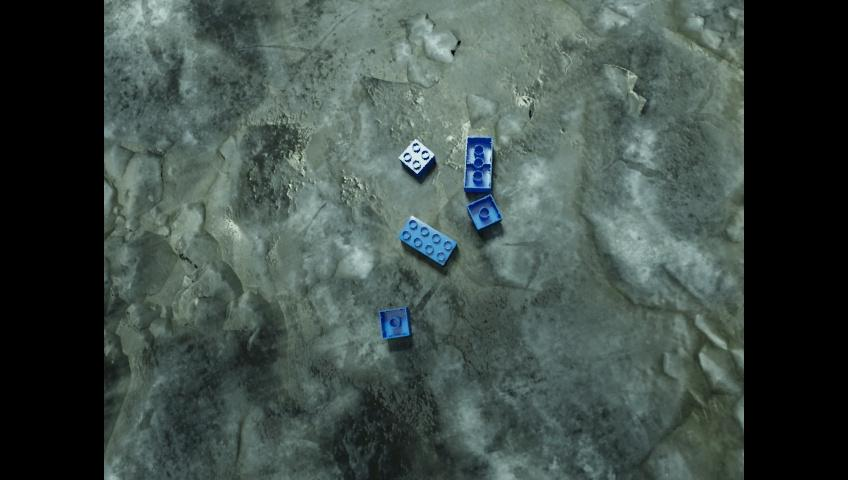2x2_blue: (399, 139, 434, 177), (466, 194, 501, 231), (379, 306, 410, 338)
4x2_blue: (397, 215, 456, 265), (464, 136, 491, 192)
